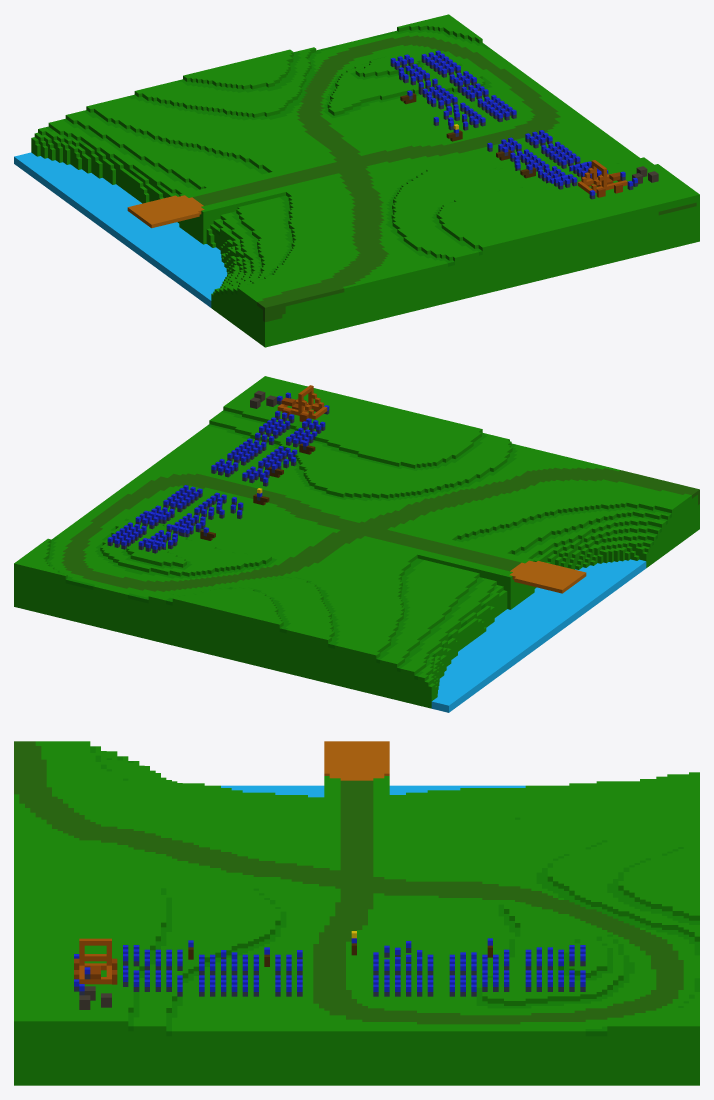
The model's file is castle 3 2-5.obj.
The picture shows the model from 3 angles, top to bottom: view 1: azimuth 30°, elevation 25°; view 2: azimuth 150°, elevation 25°; view 3: azimuth 270°, elevation 25°; orthographic projection. The views are drawn at different scales.
Size of the model in its own units: 12.6 by 2 by 12.6.
1 material, 1 textured.
